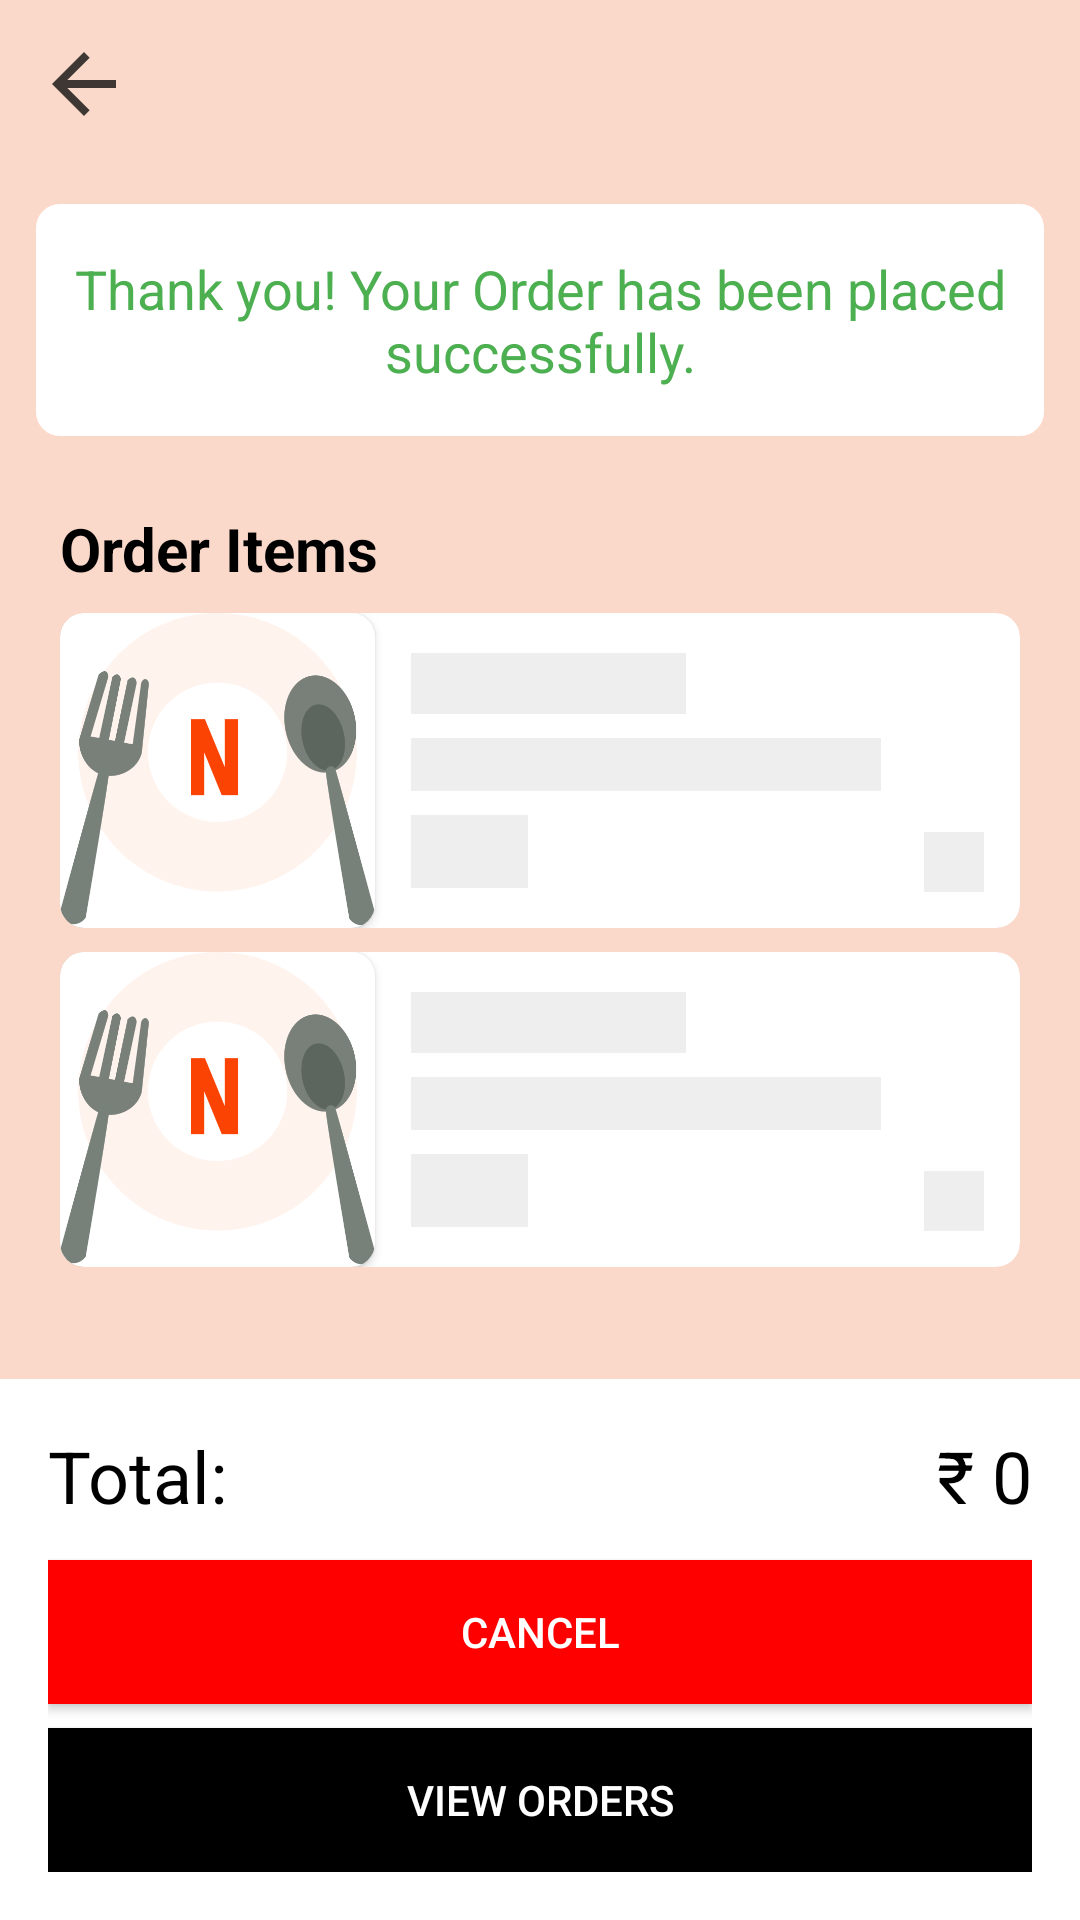

Named icons in this screenshot (1080x1920) and their centers, (x,y):
left back: (84,84)
